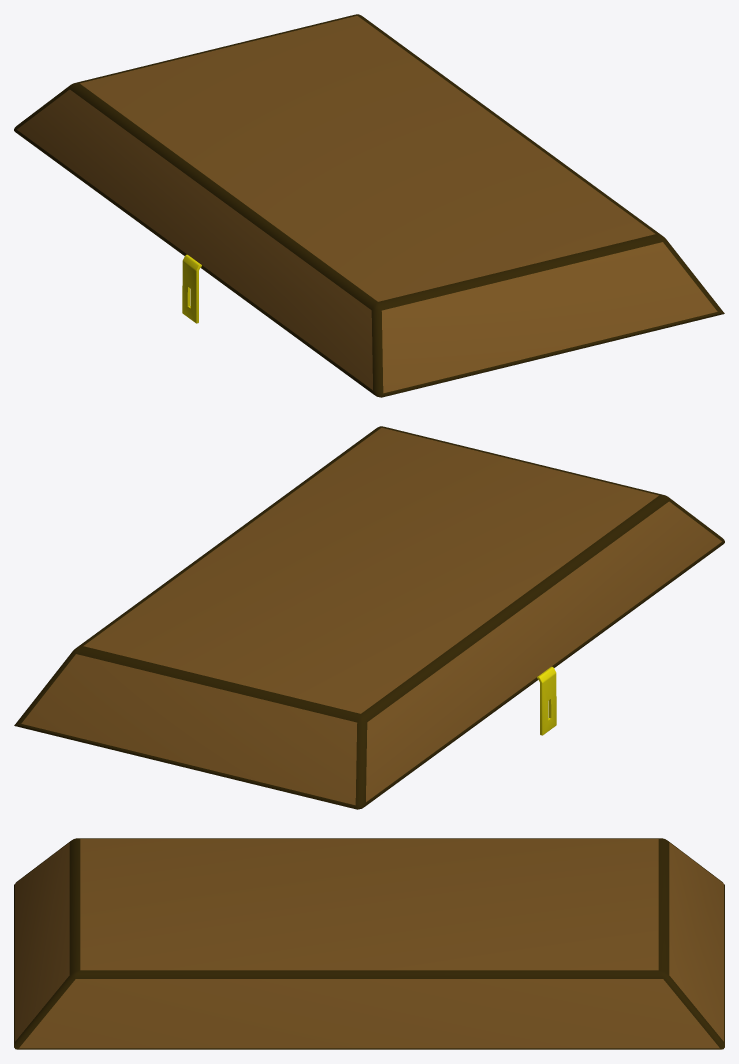
Rendered from skrzynia_gora.fbx.
The picture shows the model from 3 angles, top to bottom: view 1: azimuth 30°, elevation 25°; view 2: azimuth 150°, elevation 25°; view 3: azimuth 270°, elevation 25°; orthographic projection. The views are drawn at different scales.
Visible parts, largest first — view 1: Cube.001; view 2: Cube.001; view 3: Cube.001.
Part boxes in pixels (box(x1,y1,x2,y2)): Cube.001: box(14, 14, 724, 397); Cube.001: box(14, 426, 724, 809); Cube.001: box(14, 838, 724, 1049).
Size of the model in its own units: 202 by 63.5 by 363.
